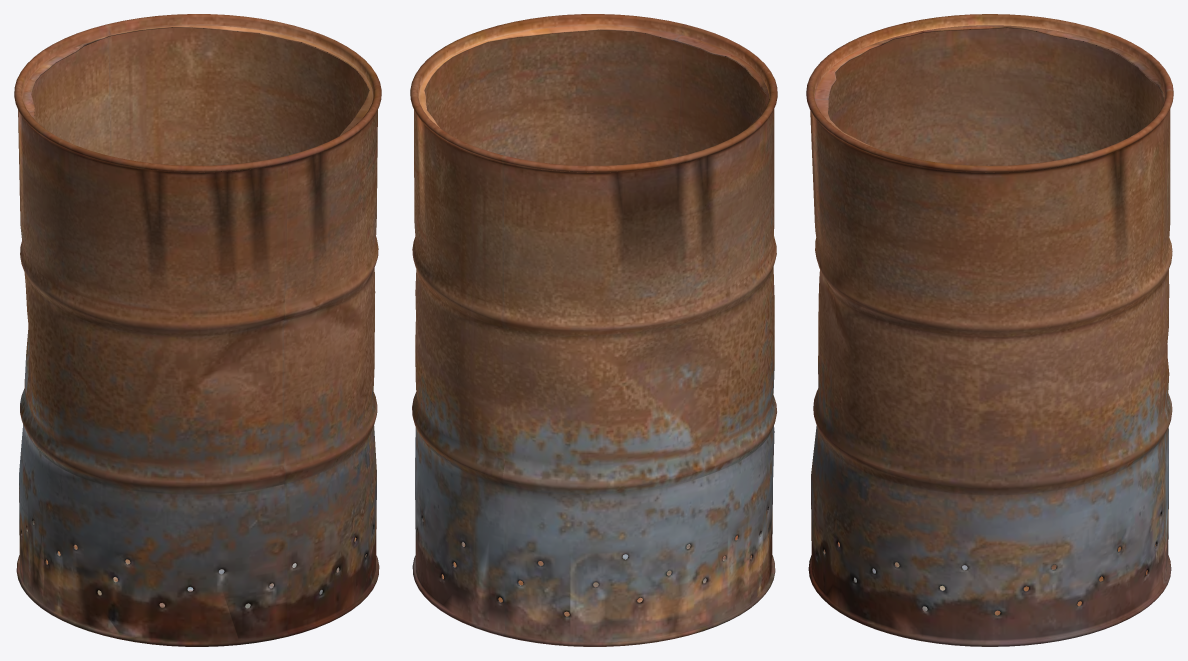
File: desert_stove.glb
3 views of the same model, side by side, from view 1: azimuth 30°, elevation 25°; view 2: azimuth 150°, elevation 25°; view 3: azimuth 270°, elevation 25° (orthographic).
Parts seen in each view (by area): view 1: barrel_stove; view 2: barrel_stove; view 3: barrel_stove.
Part boxes in pixels (x1=…): barrel_stove: x1=14, y1=14, x2=381, y2=646; barrel_stove: x1=410, y1=14, x2=777, y2=646; barrel_stove: x1=806, y1=14, x2=1173, y2=646.
Bounding box in the file's own units: 0.5926 × 0.8556 × 0.5926.
Materials: 1 (1 with a texture image).
